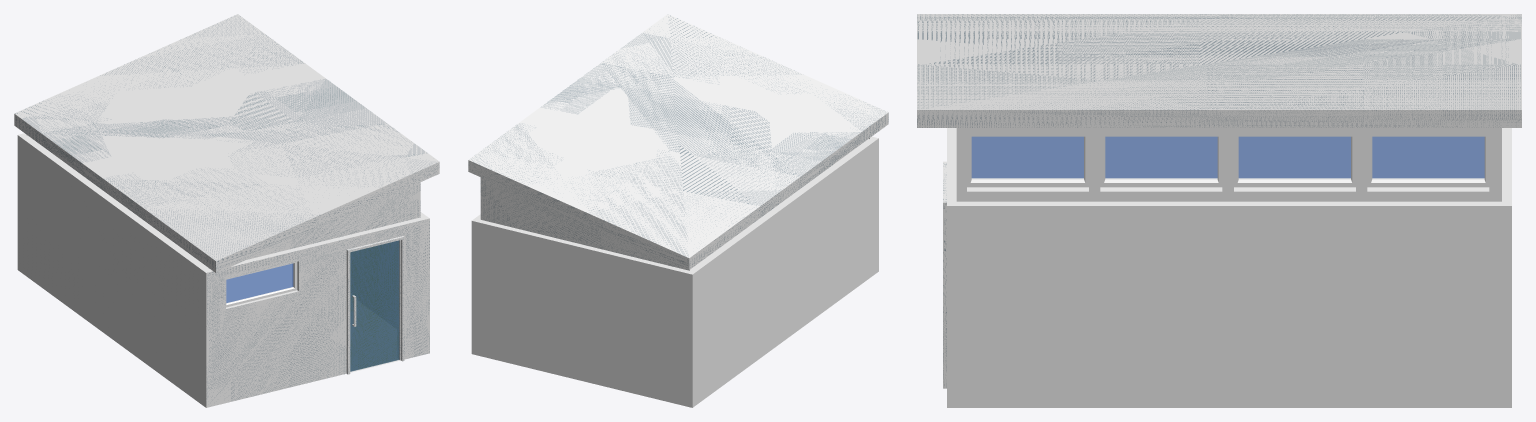
3 views of the same model, side by side, from view 1: azimuth 30°, elevation 25°; view 2: azimuth 150°, elevation 25°; view 3: azimuth 270°, elevation 25° (orthographic). The views are drawn at different scales.
Parts seen in each view (by area): view 1: SketchUp, Component_4 (×2), Component_1 (×2), Component_3 (×2); view 2: SketchUp; view 3: SketchUp, Component_1 (×12), H_Window_Default_Normal_1_2 (×4), Component_3.
Part boxes in pixels (left/top/right/bottom): SketchUp: left=14, top=14, right=439, bottom=407; Component_4 (×2): left=350, top=240, right=399, bottom=371; Component_1 (×2): left=226, top=262, right=297, bottom=307; Component_3 (×2): left=346, top=236, right=404, bottom=374; SketchUp: left=468, top=14, right=888, bottom=407; SketchUp: left=917, top=14, right=1521, bottom=407; Component_1 (×12): left=967, top=136, right=1489, bottom=187; H_Window_Default_Normal_1_2 (×4): left=967, top=187, right=1489, bottom=191; Component_3: left=943, top=201, right=946, bottom=388.
Size of the model in its own units: 156 by 244 by 133.
